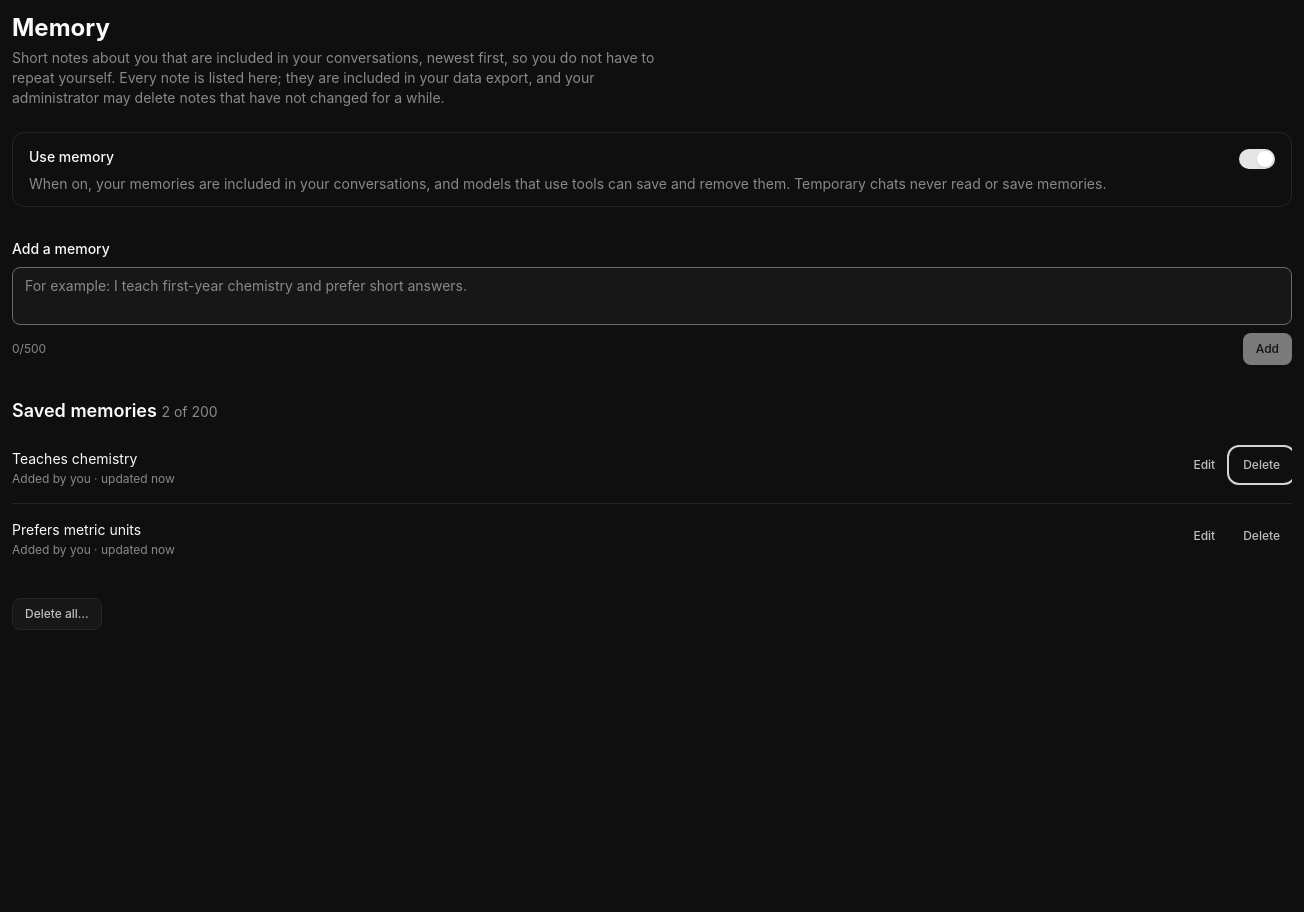
Test case: deleting a row › moves focus to the next memory, not the body
Click the button "Delete" in the row of "Teaches chemistry". click: (1262, 465)
box: [1231,449,1292,481]
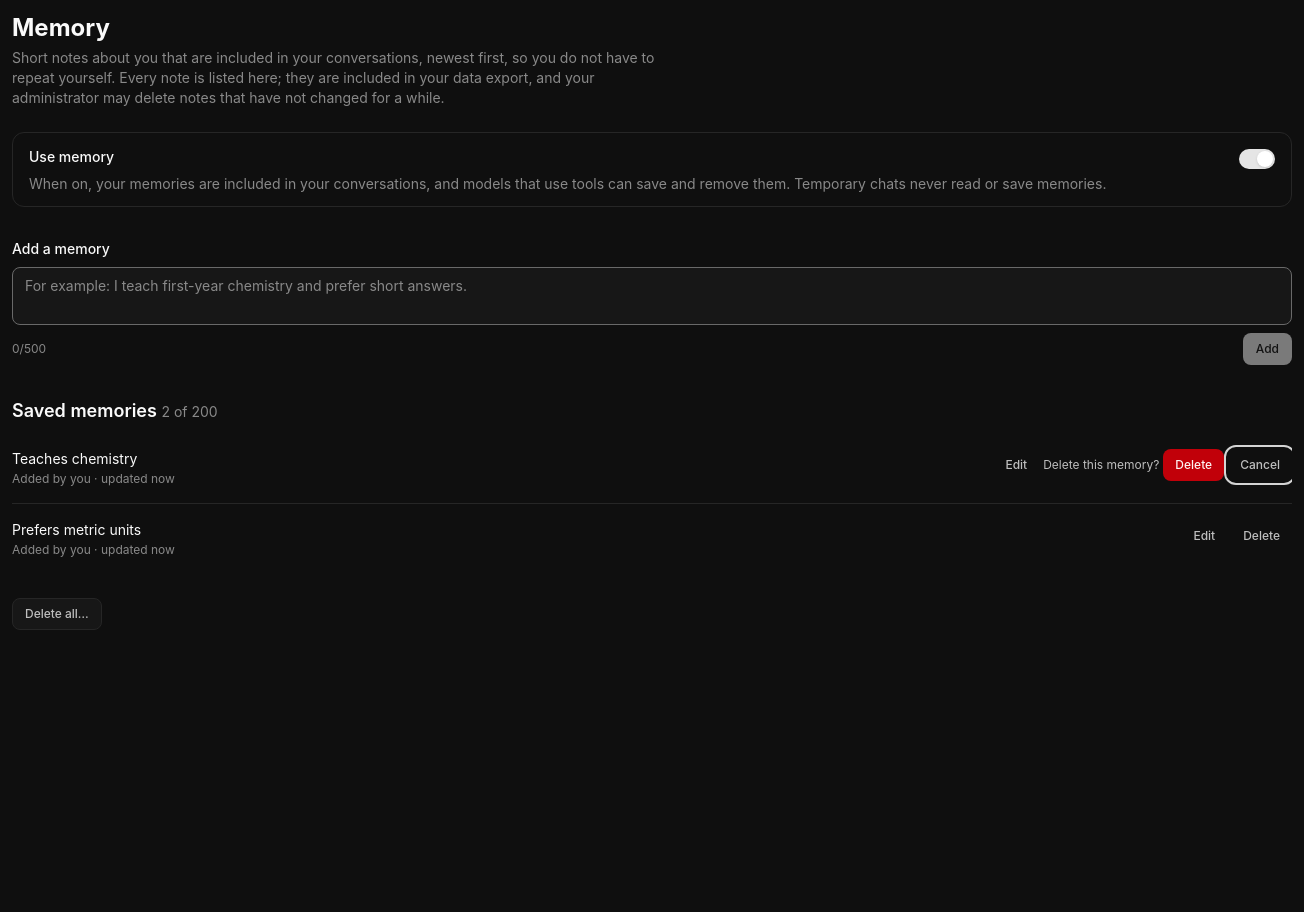
Result: the button "Cancel" is shown
Click the button "Cancel". click: (1260, 465)
box: [1228,449,1292,481]
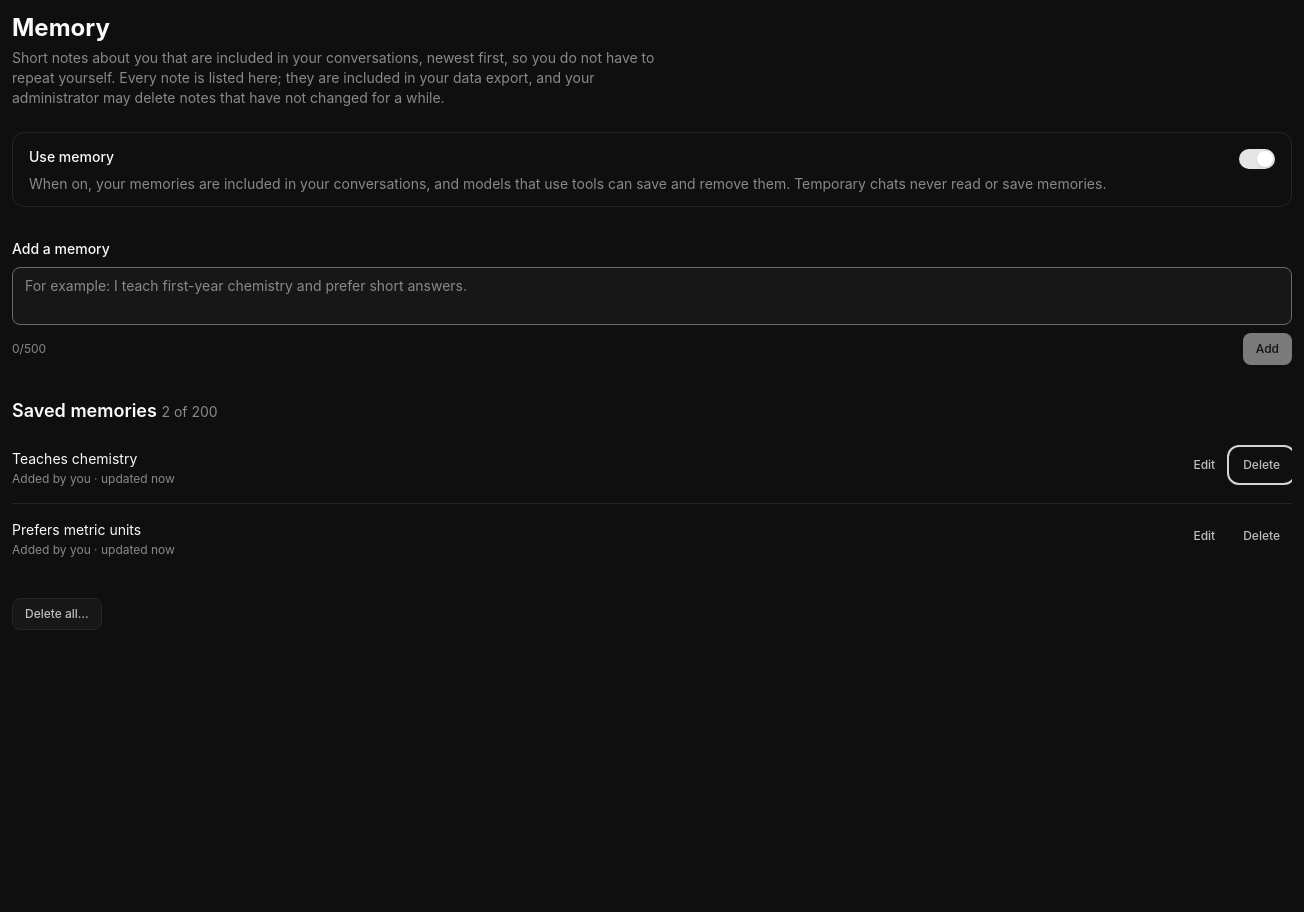
Click the button "Delete" in the row of "Teaches chemistry". click: (1262, 465)
box: [1231,449,1292,481]
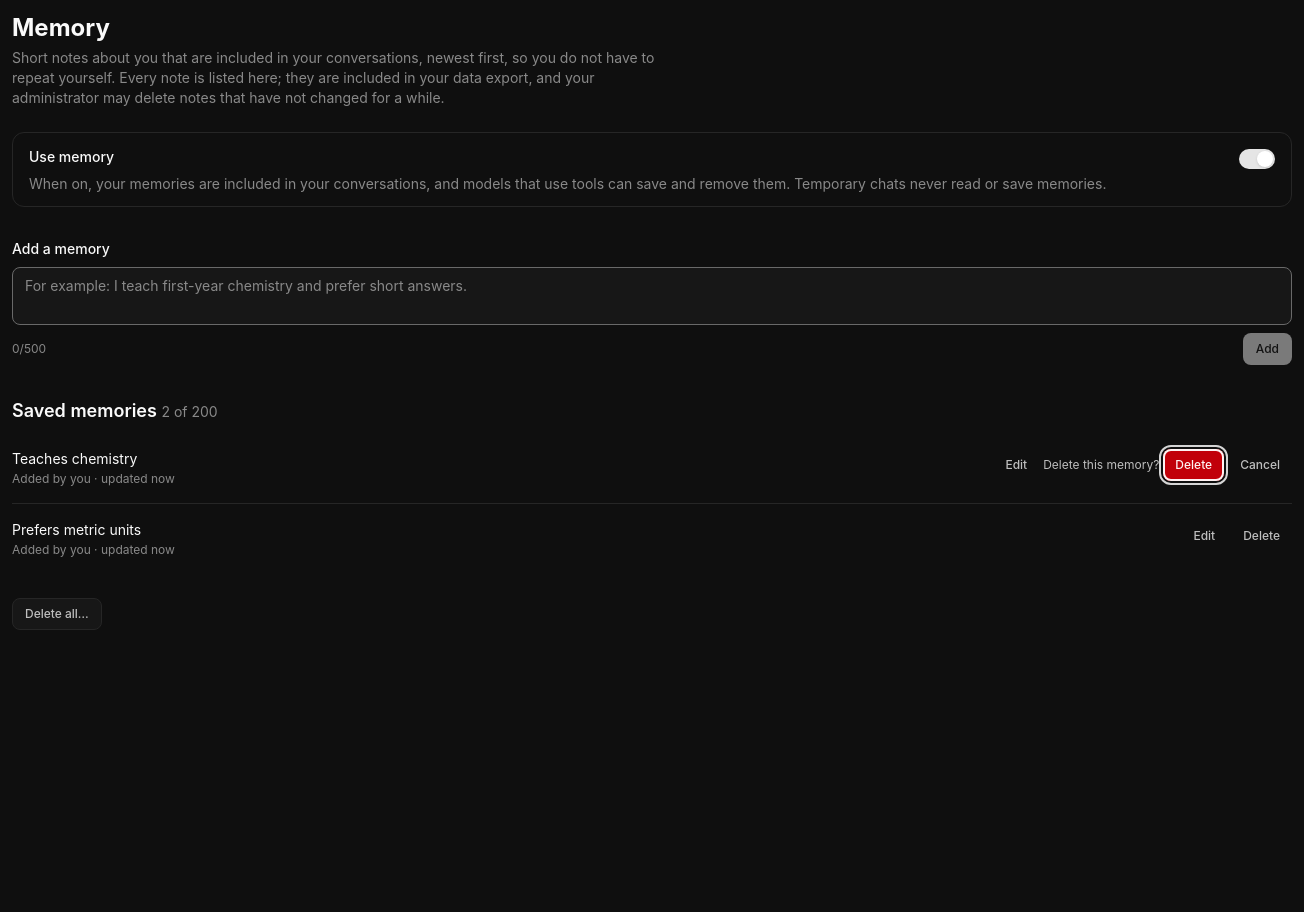
Click the button "Delete" next to "Delete this memory?". click: (1194, 465)
box: [1163,449,1224,481]
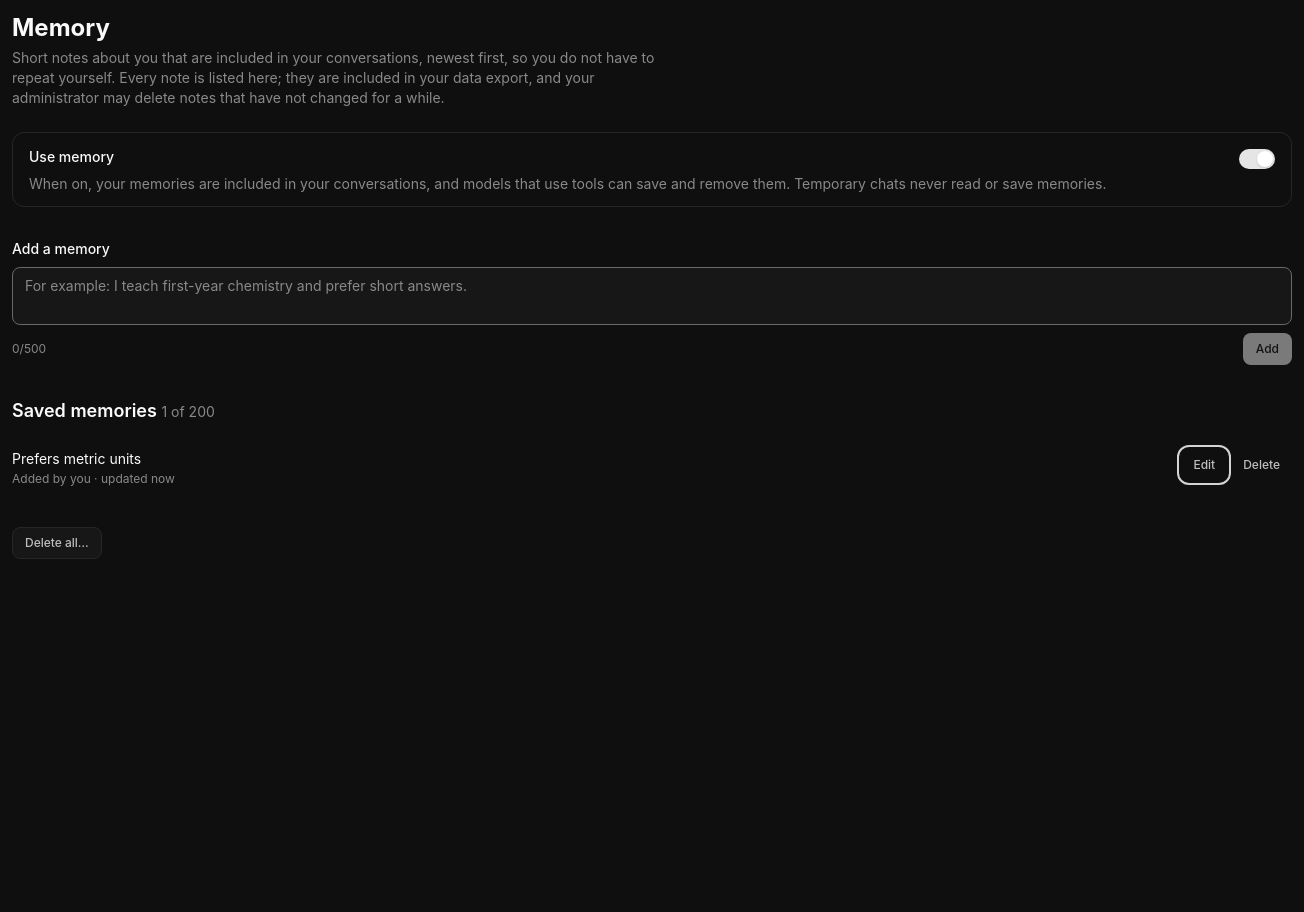
Result: the text "Teaches chemistry" is gone
